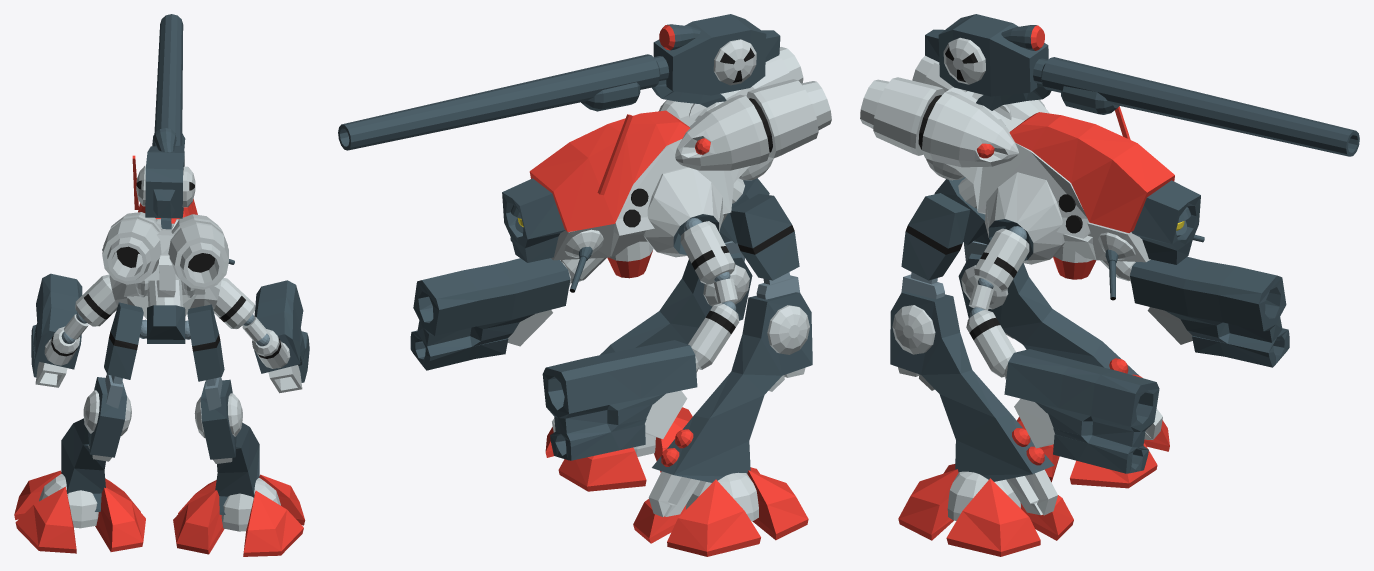
File: battle_pod.obj
3 views of the same model, side by side, from view 1: azimuth 30°, elevation 25°; view 2: azimuth 150°, elevation 25°; view 3: azimuth 270°, elevation 25° (orthographic). The views are drawn at different scales.
Parts seen in each view (by area): view 1: group1989965731, group1252035448, group1832106782, group224830677, group1644946583, group58765246, group841152996, group893005595, group81230621, group1538724001, group965854648, group1092948607 (+1 smaller); view 2: group1989965731, group1832106782, group1644946583, group224830677, group841152996, group1283648131, group1252035448, group1178872071, group784989995, group81230621, group58765246, group1098250012 (+4 smaller); view 3: group1252035448, group1832106782, group224830677, group1644946583, group1283648131, group58765246, group1989965731, group1092948607, group784989995, group81230621, group841152996, group893005595 (+3 smaller).
Boxes of the visible parts, x1,y1,x2,y2 form: group1989965731: (14, 302, 146, 553); group1252035448: (173, 304, 305, 556); group1832106782: (136, 14, 195, 229); group224830677: (213, 278, 309, 393); group1644946583: (31, 273, 117, 387); group58765246: (168, 214, 228, 289); group841152996: (102, 212, 161, 284); group893005595: (147, 305, 185, 343); group81230621: (123, 223, 205, 296); group1538724001: (156, 254, 175, 297); group965854648: (147, 280, 183, 306); group1092948607: (187, 280, 221, 313); group1989965731: (633, 193, 812, 556); group1832106782: (338, 14, 780, 150); group1644946583: (542, 217, 739, 460); group224830677: (410, 257, 606, 370); group841152996: (675, 79, 831, 170); group1283648131: (529, 110, 690, 232); group1252035448: (545, 232, 752, 491); group1178872071: (643, 167, 723, 257); group784989995: (502, 178, 565, 262); group81230621: (613, 87, 754, 235); group58765246: (659, 47, 803, 118); group1098250012: (607, 241, 653, 278); group1252035448: (890, 193, 1073, 556); group1832106782: (925, 14, 1359, 156); group224830677: (966, 226, 1159, 473); group1644946583: (1100, 256, 1289, 367); group1283648131: (1009, 112, 1174, 232); group58765246: (860, 77, 1018, 167); group1989965731: (958, 231, 1169, 488); group1092948607: (984, 172, 1064, 264); group784989995: (1131, 180, 1200, 264); group81230621: (945, 87, 1090, 238); group841152996: (912, 55, 1049, 120); group893005595: (934, 177, 986, 245).
Size of the model in its own units: 1.09 by 1.36 by 1.32.
